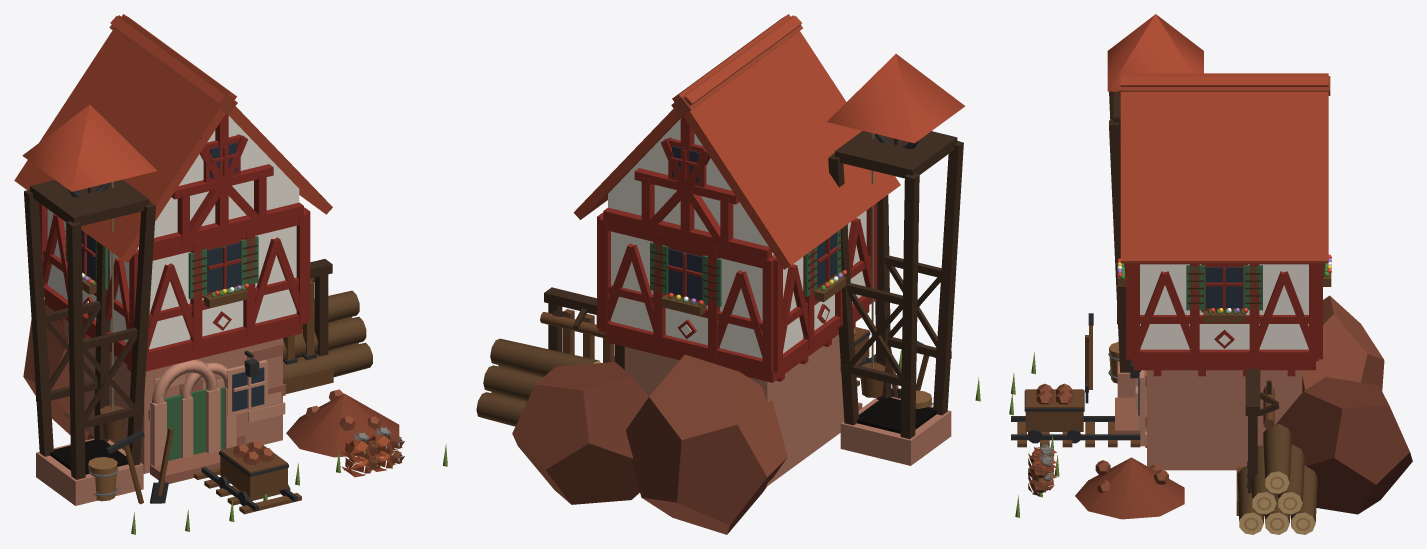
The model's file is eisenmine.glb.
The picture shows the model from 3 angles, left to right: view 1: azimuth 30°, elevation 25°; view 2: azimuth 150°, elevation 25°; view 3: azimuth 270°, elevation 25°; orthographic projection. The views are drawn at different scales.
Visible parts, largest first — view 1: object 234, object 266, object 41, object 3, object 220, object 253, object 254, object 297, object 256, object 265, object 243, object 270 (+51 smaller); view 2: object 234, object 1, object 2, object 3, object 266, object 82, object 206, object 254, object 253, object 265, object 270, object 243 (+38 smaller); view 3: object 243, object 2, object 3, object 123, object 297, object 266, object 1, object 234, object 256, object 287, object 32, object 124 (+27 smaller).
Part boxes in pixels (bbox=[...]): object 234: bbox=[14, 14, 236, 262]; object 266: bbox=[22, 104, 156, 191]; object 41: bbox=[149, 226, 296, 349]; object 3: bbox=[64, 320, 282, 473]; object 220: bbox=[154, 116, 299, 237]; object 253: bbox=[24, 189, 53, 456]; object 254: bbox=[67, 221, 85, 479]; object 297: bbox=[286, 393, 399, 457]; object 256: bbox=[126, 201, 155, 465]; object 265: bbox=[30, 179, 149, 225]; object 243: bbox=[110, 16, 332, 214]; object 270: bbox=[36, 438, 143, 505]; object 234: bbox=[672, 14, 900, 269]; object 1: bbox=[625, 354, 787, 534]; object 2: bbox=[512, 362, 648, 504]; object 3: bbox=[625, 334, 844, 486]; object 266: bbox=[827, 54, 965, 143]; object 82: bbox=[611, 231, 762, 358]; object 206: bbox=[608, 118, 768, 246]; object 254: bbox=[933, 140, 963, 415]; object 253: bbox=[900, 173, 919, 438]; object 265: bbox=[834, 131, 957, 178]; object 270: bbox=[840, 396, 951, 465]; object 243: bbox=[573, 16, 801, 219]; object 243: bbox=[1120, 73, 1328, 263]; object 2: bbox=[1276, 377, 1412, 514]; object 3: bbox=[1147, 370, 1302, 470]; object 123: bbox=[1140, 264, 1308, 349]; object 297: bbox=[1075, 457, 1184, 519]; object 266: bbox=[1107, 14, 1203, 91]; object 1: bbox=[1302, 295, 1384, 391]; object 234: bbox=[1120, 76, 1328, 86]; object 256: bbox=[1109, 120, 1130, 372]; object 287: bbox=[1025, 389, 1083, 431]; object 32: bbox=[1133, 361, 1315, 370]; object 124: bbox=[1140, 349, 1308, 360].
Size of the model in its own units: 4.87 by 5.37 by 4.74.
